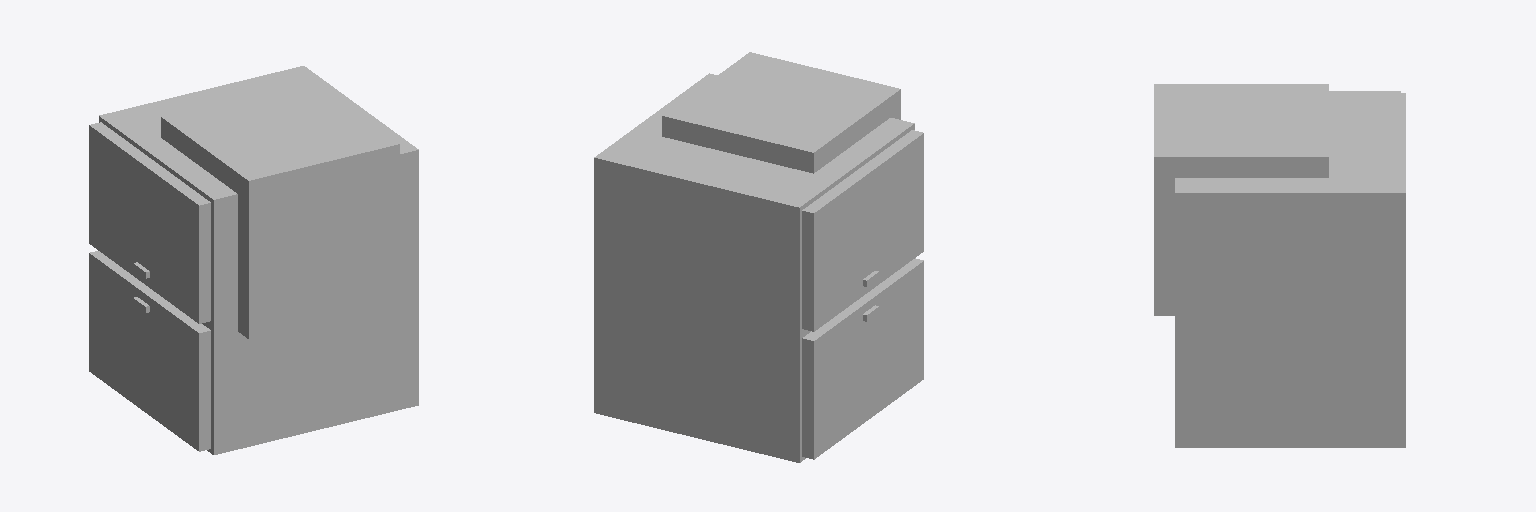
Rendered from cupboard.6.obj.
The picture shows the model from 3 angles: view 1: azimuth 30°, elevation 25°; view 2: azimuth 150°, elevation 25°; view 3: azimuth 270°, elevation 25°; orthographic projection.
Parts seen in each view (by area): view 1: Cube.006; view 2: Cube.006; view 3: Cube.006.
Part boxes in pixels (x1,y1,x2,y2): Cube.006: (89,66,418,454); Cube.006: (594,52,923,462); Cube.006: (1154,84,1405,447).
Bounding box in the file's own units: 2.93 × 3.49 × 2.88.